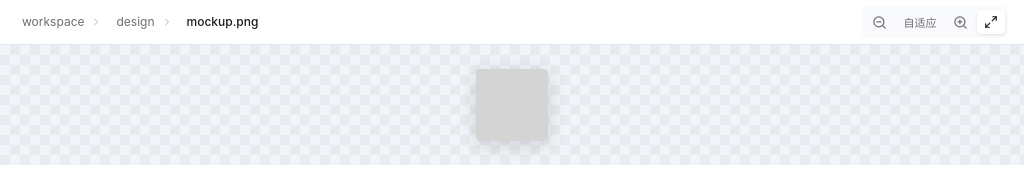
it: ImagePreview Component › handles zoom controls
The image size is (1024, 182).
Click the 3rd button with class "zoom-btn".
click(960, 22)  # box [946,10,975,34]
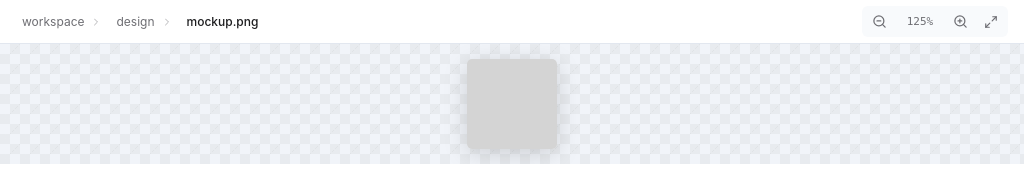
Check: the button with class "zoom-text-btn" reads "125%", box [896,10,944,33]
Click the 4th button with class "zoom-btn".
click(991, 22)  # box [977,10,1005,34]
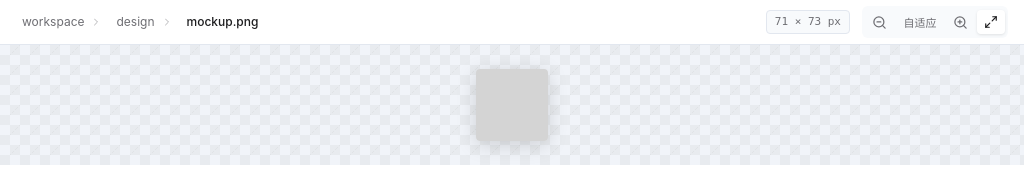
Check: the button with class "zoom-text-btn" reads "自适应", box [896,9,944,35]
